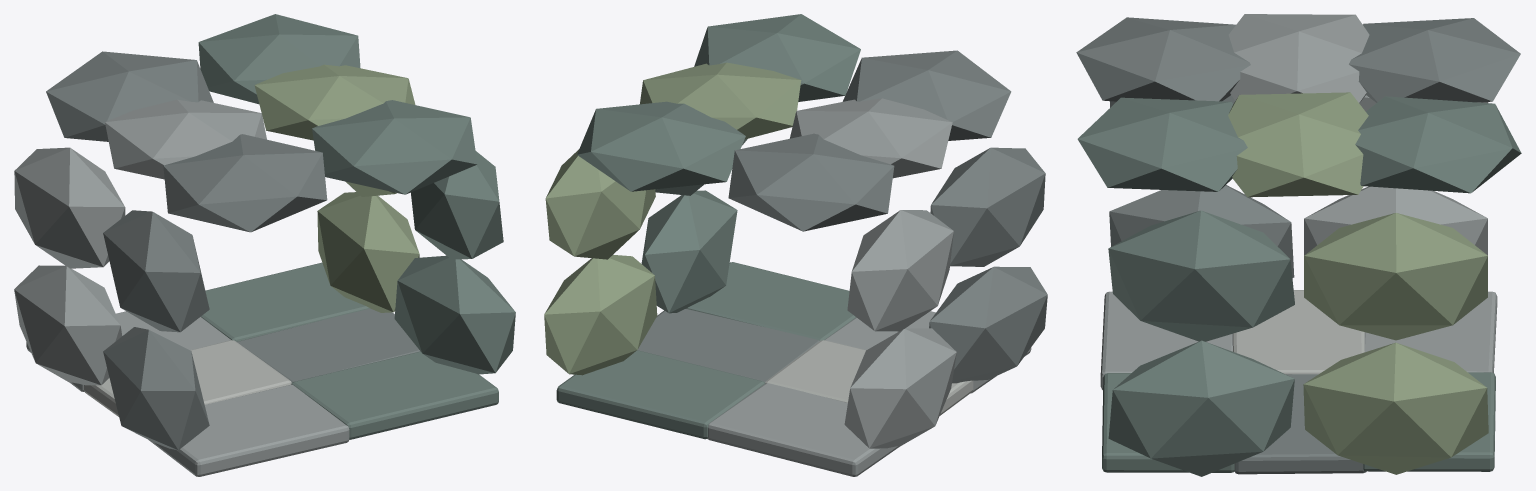
The model's file is tunnel_straight_4x4x3p5.glb.
The picture shows the model from 3 angles, left to right: view 1: azimuth 30°, elevation 25°; view 2: azimuth 150°, elevation 25°; view 3: azimuth 270°, elevation 25°; orthographic projection. The views are drawn at different scales.
Parts seen in each view (by area): view 1: tunnel_straight_ceiling_01, tunnel_straight_ceiling_02, tunnel_straight_wall_03, cave_floor_02, tunnel_straight_wall_06, cave_floor_01, tunnel_straight_wall_02, tunnel_straight_wall_05, tunnel_straight_wall_01, tunnel_straight_ceiling_05, tunnel_straight_wall_04, tunnel_straight_ceiling_06 (+7 smaller); view 2: tunnel_straight_ceiling_05, tunnel_straight_ceiling_06, cave_floor_06, tunnel_straight_wall_04, tunnel_straight_wall_02, tunnel_straight_wall_05, tunnel_straight_wall_06, tunnel_straight_wall_01, cave_floor_05, tunnel_straight_ceiling_01, tunnel_straight_wall_03, tunnel_straight_ceiling_02 (+7 smaller); view 3: tunnel_straight_wall_04, tunnel_straight_wall_03, tunnel_straight_wall_07, tunnel_straight_wall_08, tunnel_straight_ceiling_04, tunnel_straight_ceiling_06, tunnel_straight_ceiling_02, tunnel_straight_ceiling_01, tunnel_straight_ceiling_05, tunnel_straight_ceiling_03, cave_floor_03, tunnel_straight_wall_02 (+6 smaller).
Part boxes in pixels (x1,y1,x2,y2): tunnel_straight_ceiling_01: (163, 134, 327, 232); tunnel_straight_ceiling_02: (312, 100, 477, 194); tunnel_straight_wall_03: (394, 255, 515, 374); cave_floor_02: (291, 351, 498, 439); tunnel_straight_wall_06: (14, 147, 125, 268); cave_floor_01: (149, 384, 349, 476); tunnel_straight_wall_02: (14, 265, 122, 385); tunnel_straight_wall_05: (103, 210, 209, 332); tunnel_straight_wall_01: (103, 327, 209, 450); tunnel_straight_ceiling_05: (46, 51, 213, 141); tunnel_straight_wall_04: (317, 192, 419, 312); tunnel_straight_ceiling_06: (198, 14, 360, 104); tunnel_straight_ceiling_05: (728, 133, 894, 231); tunnel_straight_ceiling_06: (577, 101, 745, 191); cave_floor_06: (556, 350, 765, 439); tunnel_straight_wall_04: (544, 254, 657, 375); tunnel_straight_wall_02: (844, 328, 956, 448); tunnel_straight_wall_05: (930, 147, 1045, 266); tunnel_straight_wall_06: (847, 210, 953, 331); tunnel_straight_wall_01: (929, 266, 1047, 383); cave_floor_05: (708, 383, 900, 476); tunnel_straight_ceiling_01: (842, 50, 1011, 140); tunnel_straight_wall_03: (641, 190, 737, 313); tunnel_straight_ceiling_02: (694, 14, 860, 101); tunnel_straight_wall_04: (1303, 342, 1488, 474); tunnel_straight_wall_03: (1108, 340, 1294, 476); tunnel_straight_wall_07: (1108, 210, 1294, 341); tunnel_straight_wall_08: (1304, 213, 1487, 340); tunnel_straight_ceiling_04: (1228, 92, 1368, 197); tunnel_straight_ceiling_06: (1355, 96, 1521, 193); tunnel_straight_ceiling_02: (1077, 97, 1247, 191); tunnel_straight_ceiling_01: (1076, 17, 1250, 101); tunnel_straight_ceiling_05: (1349, 18, 1520, 102); tunnel_straight_ceiling_03: (1228, 14, 1369, 103); cave_floor_03: (1232, 290, 1364, 374); tunnel_straight_wall_02: (1304, 186, 1487, 255).
Size of the model in its own units: 5.03 by 3.66 by 4.58.
